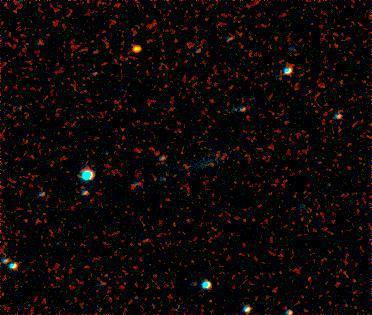star: (121, 34, 151, 64)
